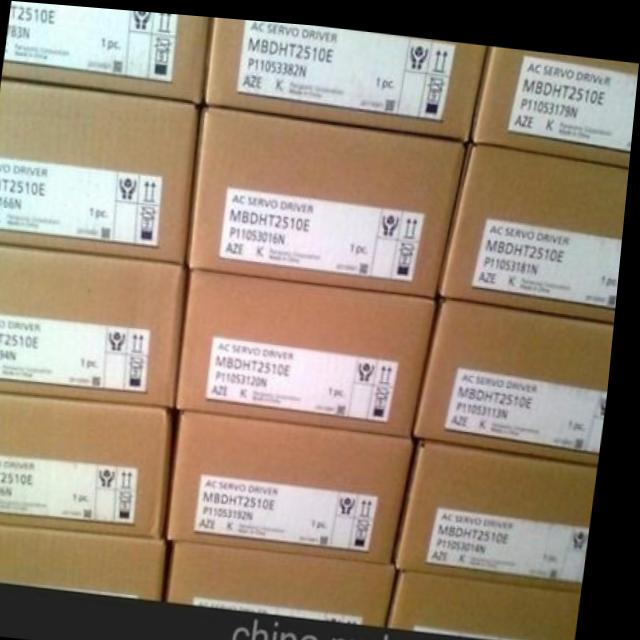box: (189, 101, 471, 292), (184, 269, 445, 425), (0, 82, 203, 262), (174, 410, 422, 556), (443, 134, 631, 313), (205, 14, 487, 132), (422, 294, 619, 455), (0, 245, 189, 405), (406, 434, 604, 581), (0, 391, 185, 536), (2, 1, 211, 98), (471, 40, 639, 157), (174, 538, 408, 618), (395, 560, 590, 635), (0, 524, 179, 598)
